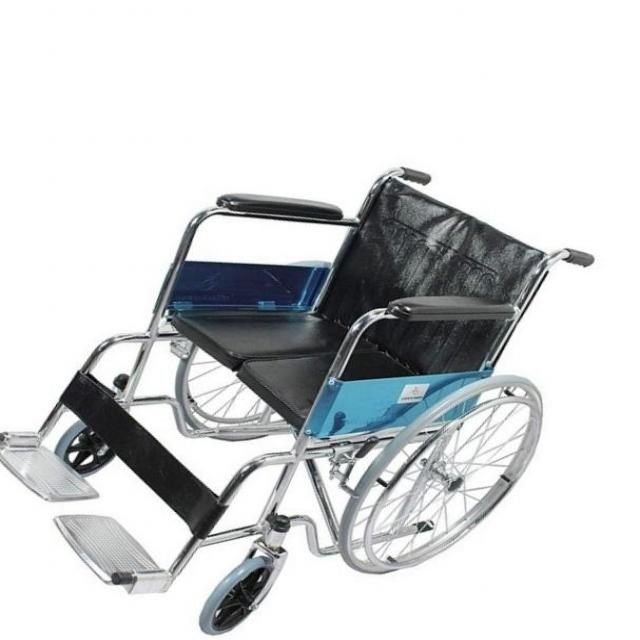wheelchair: (0, 152, 622, 640)
